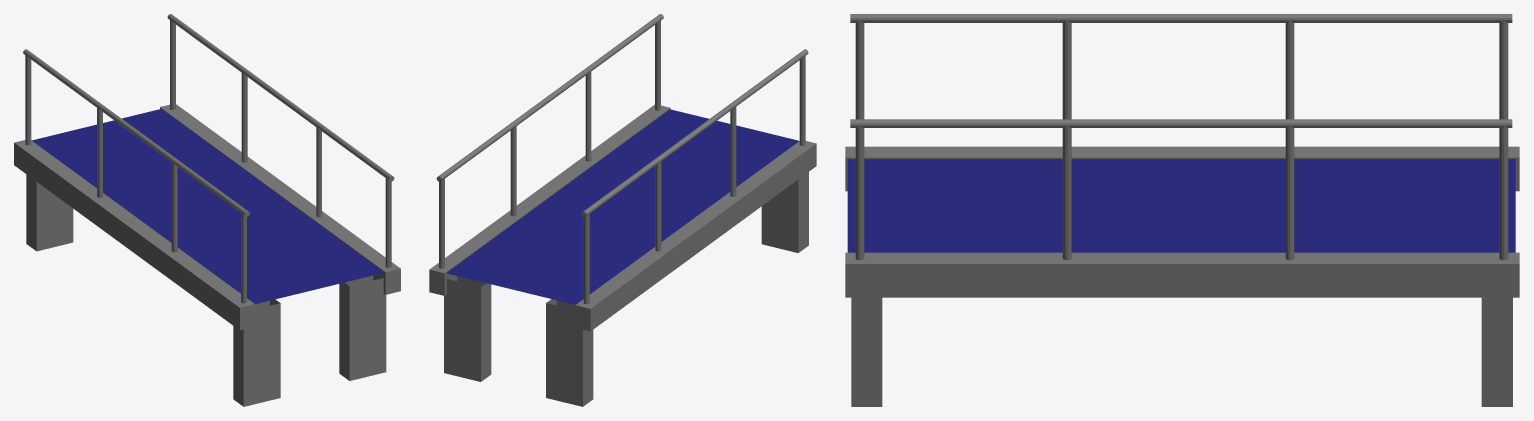
The model's file is small_platform_1.FBX.
3 renders of one model, left to right at view 1: azimuth 30°, elevation 25°; view 2: azimuth 150°, elevation 25°; view 3: azimuth 270°, elevation 25°, orthographic. The views are drawn at different scales.
Parts seen in each view (by area): view 1: small_platform; view 2: small_platform; view 3: small_platform.
Part boxes in pixels (left/top/right/bottom): small_platform: left=14, top=14, right=400, bottom=406; small_platform: left=429, top=14, right=816, bottom=406; small_platform: left=845, top=14, right=1519, bottom=406.
Bounding box in the file's own units: 69.77 × 80.72 × 169.
